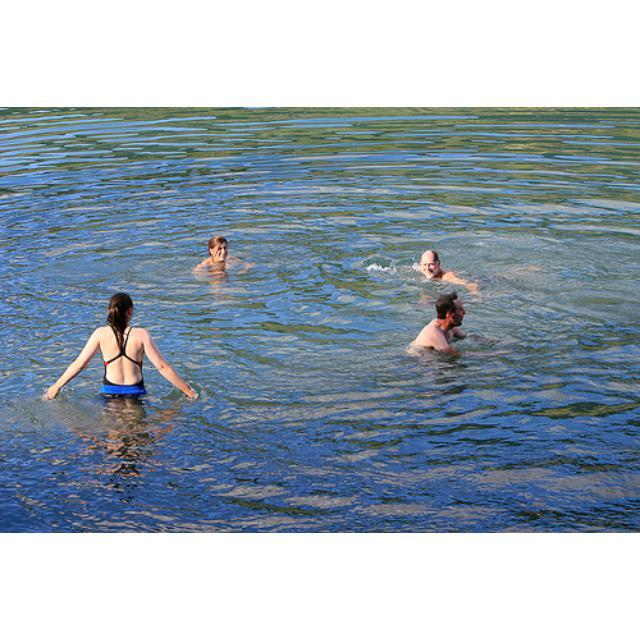human: (44, 290, 198, 407), (410, 291, 470, 353), (192, 234, 247, 272), (416, 248, 465, 285)
